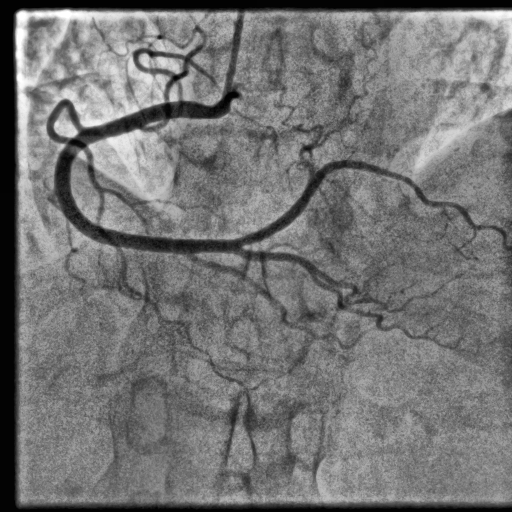pborca: (237, 161, 508, 249)
pda: (227, 247, 443, 313)
rca: (54, 101, 241, 254)
